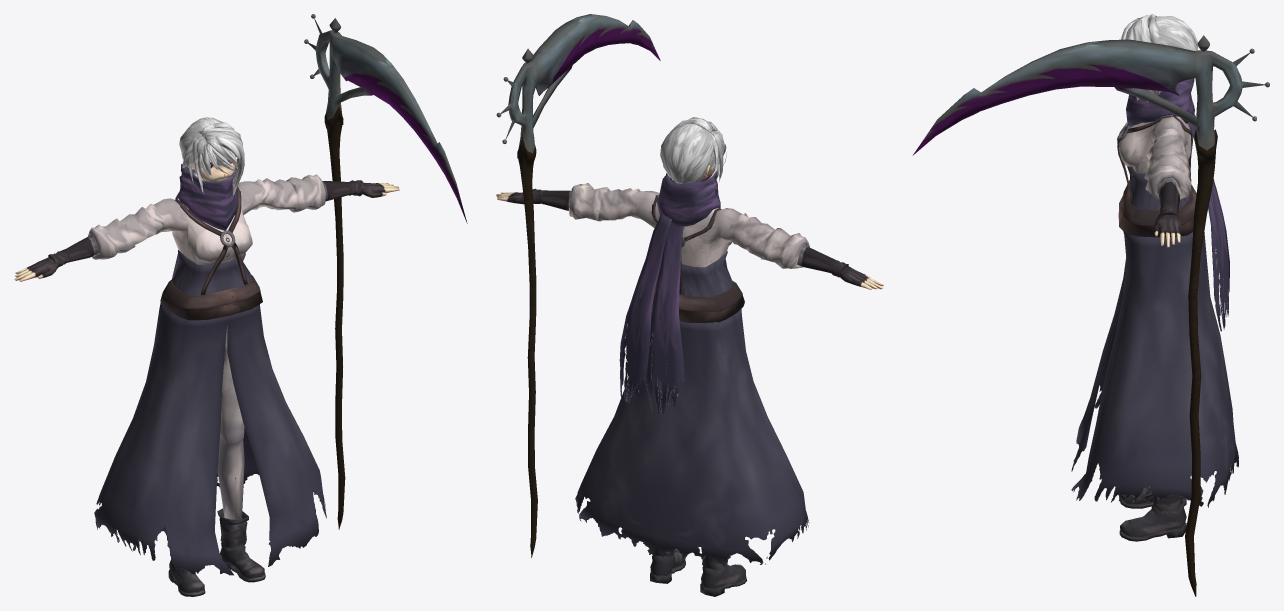
3 views of the same model, side by side, from view 1: azimuth 30°, elevation 25°; view 2: azimuth 150°, elevation 25°; view 3: azimuth 270°, elevation 25° (orthographic). The views are drawn at different scales.
Parts seen in each view (by area): view 1: dress, body&Head, Cylinder; view 2: dress, body&Head, Cylinder; view 3: dress, Cylinder, body&Head.
Boxes of the visible parts, <box> form: dress: <box>94,302,326,575</box>; body&Head: <box>14,117,399,596</box>; Cylinder: <box>304,14,467,529</box>; dress: <box>575,309,809,566</box>; body&Head: <box>496,117,883,596</box>; Cylinder: <box>496,14,660,557</box>; dress: <box>1071,231,1238,507</box>; Cylinder: <box>912,35,1269,596</box>; body&Head: <box>1117,14,1229,541</box>.
Size of the model in its own units: 824 by 1045 by 603.
Materials: 7 (7 with a texture image).
